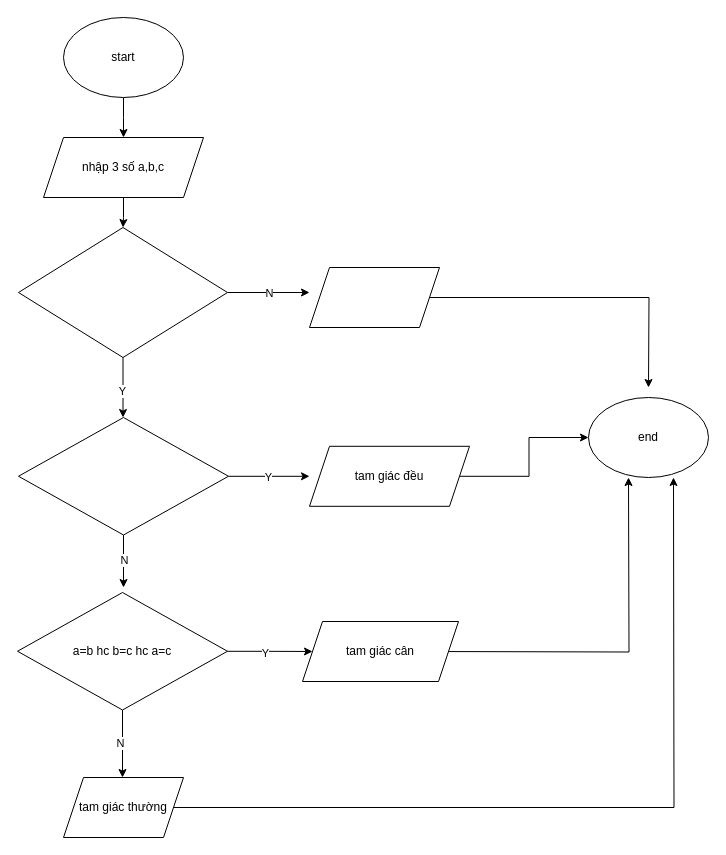
This 726x855 diagram has some shape labels left out. The box of each missing label's shape, as (x1, y1, x2, y2) in pixels:
a+b>c và a+c>b và b+c>a: (18, 226, 228, 358)
a=b và b=c: (18, 416, 228, 535)
không phải tam giác: (308, 266, 440, 328)
